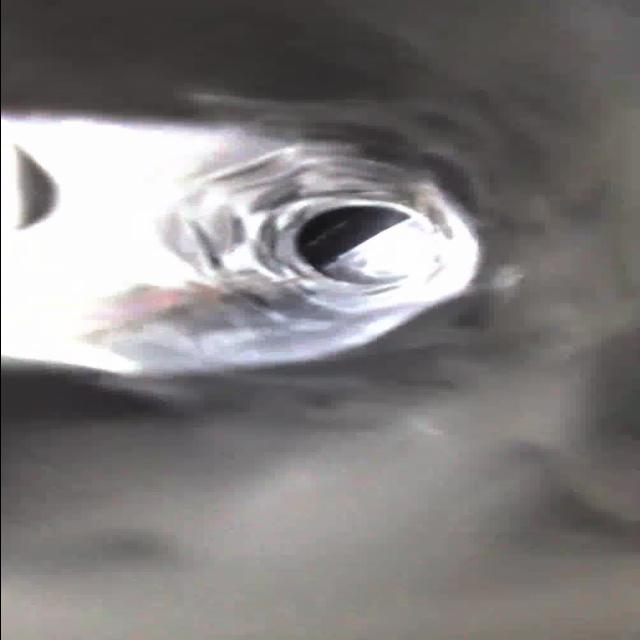crack: (326, 130, 412, 200), (171, 204, 243, 266), (198, 146, 290, 192), (216, 274, 294, 326)
